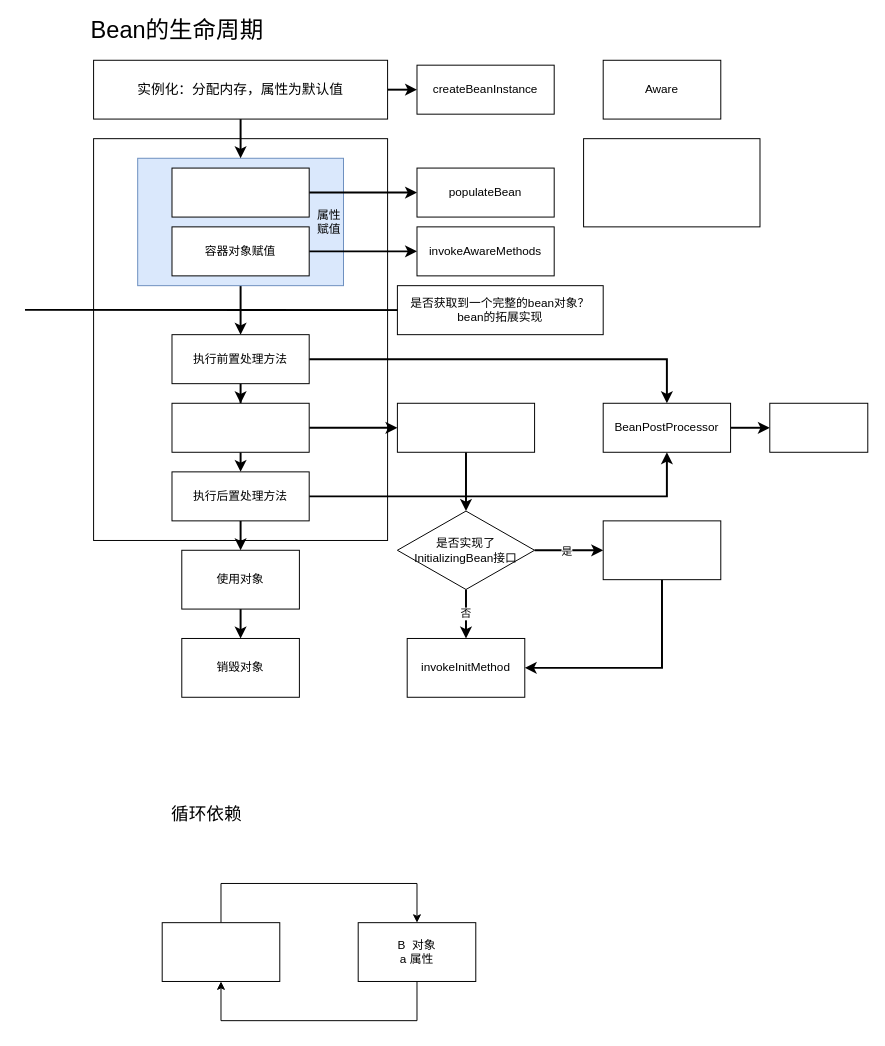
Image size: 885x1046. Some labels were removed from this diagram. Each missing label, with the centre of its shape:
A 对象 b 属性: point (220, 951)
afterPropertiesSet: point (661, 550)
AoP: point (818, 427)
BeanFactory ApplicationContext Environment ResourceLoader: point (671, 182)
invokeInitMethods: point (465, 427)
初始化: point (240, 427)
用户自定义属性赋值: point (240, 192)
